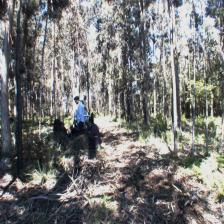trunktrack_idkeyframe: (0, 62, 12, 155), (11, 62, 19, 166)
